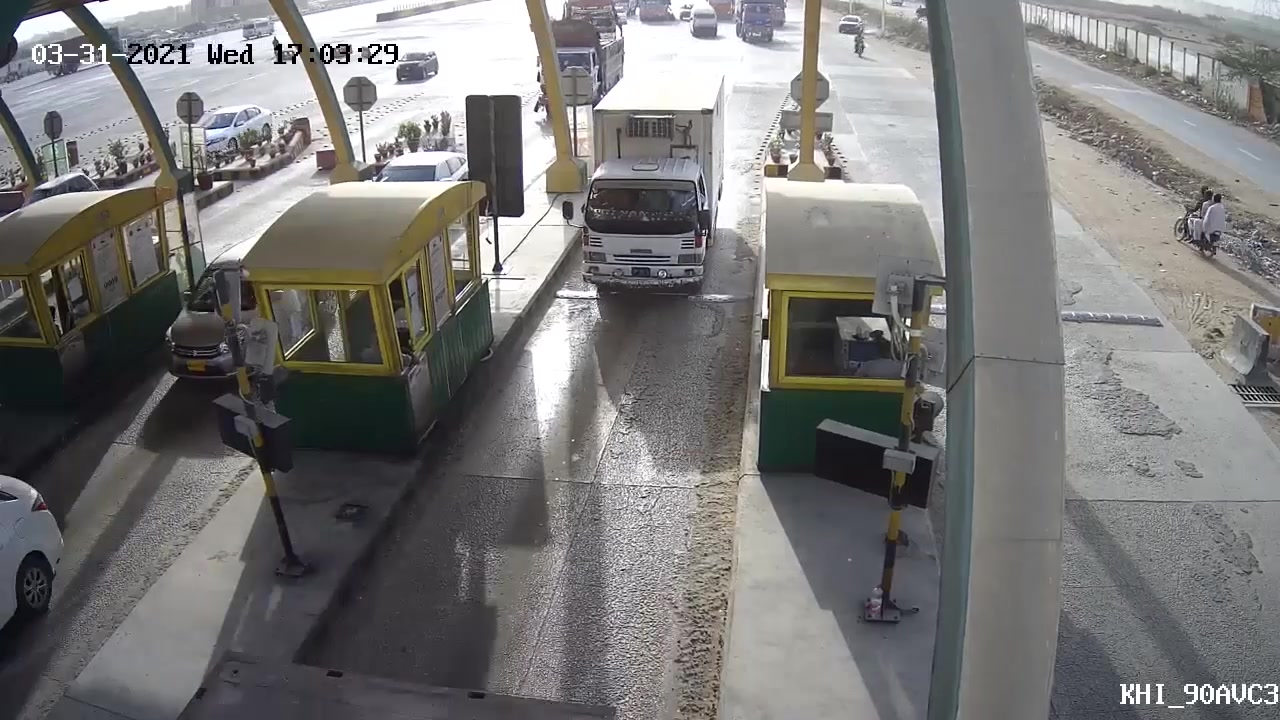F5: (566, 57, 737, 315)
